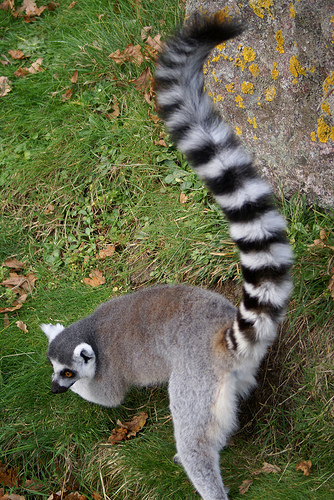cat: (36, 8, 298, 498)
